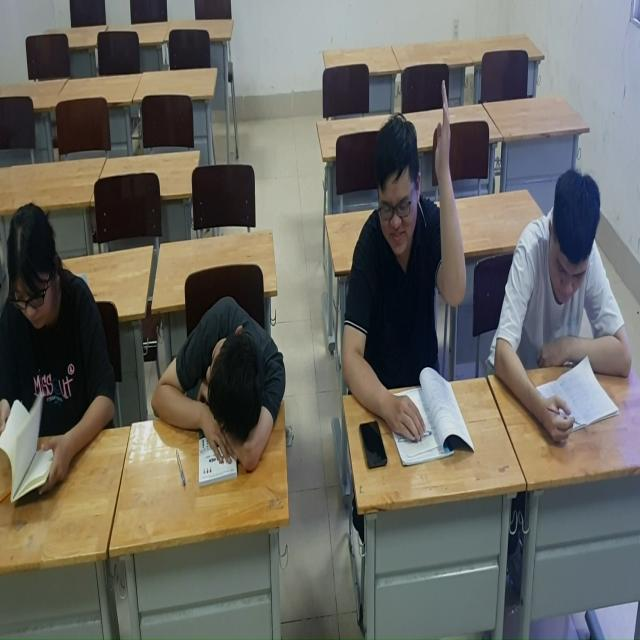raise_hand: (337, 93, 470, 438)
read: (486, 156, 635, 438), (1, 204, 121, 503)
sleep: (137, 250, 287, 480)
